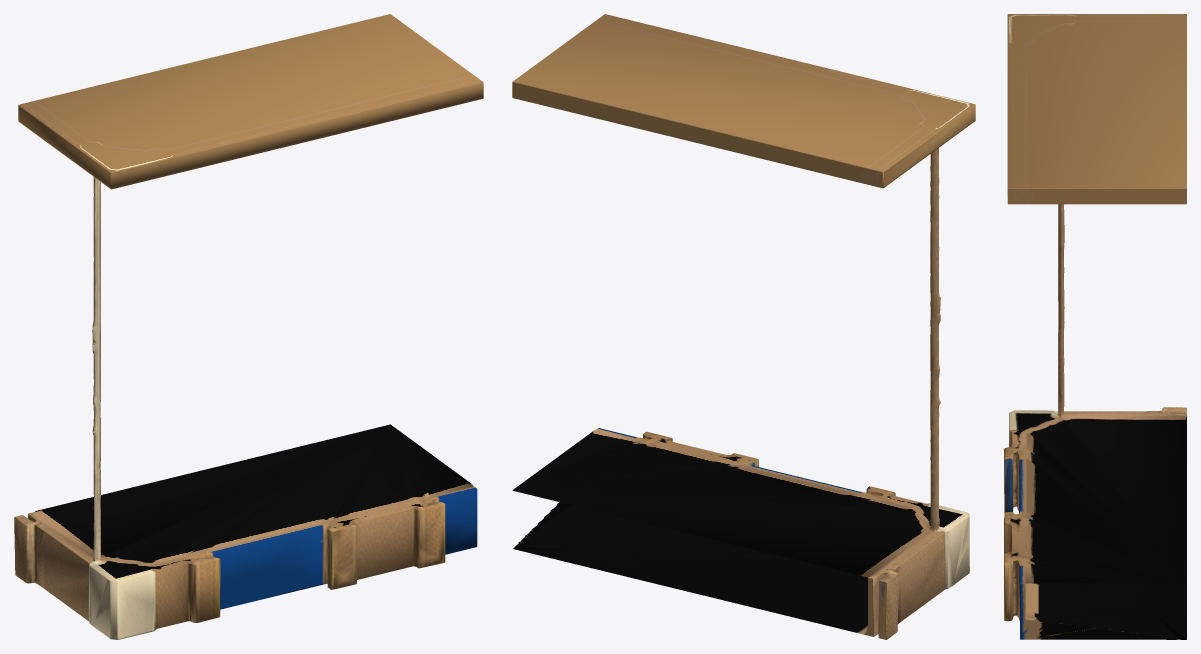
Rendered from 9-roof-front-left.fbx.
3 renders of one model, left to right at view 1: azimuth 30°, elevation 25°; view 2: azimuth 150°, elevation 25°; view 3: azimuth 270°, elevation 25°, orthographic. The views are drawn at different scales.
Visible parts, largest first — view 1: roof-front-left; view 2: roof-front-left; view 3: roof-front-left.
Boxes of the visible parts, x1=… form: roof-front-left: x1=14, y1=14, x2=483, y2=639; roof-front-left: x1=512, y1=14, x2=975, y2=639; roof-front-left: x1=1004, y1=14, x2=1186, y2=639.
Bounding box in the file's own units: 4721 × 5633 × 2064.
1 material, 1 textured.
